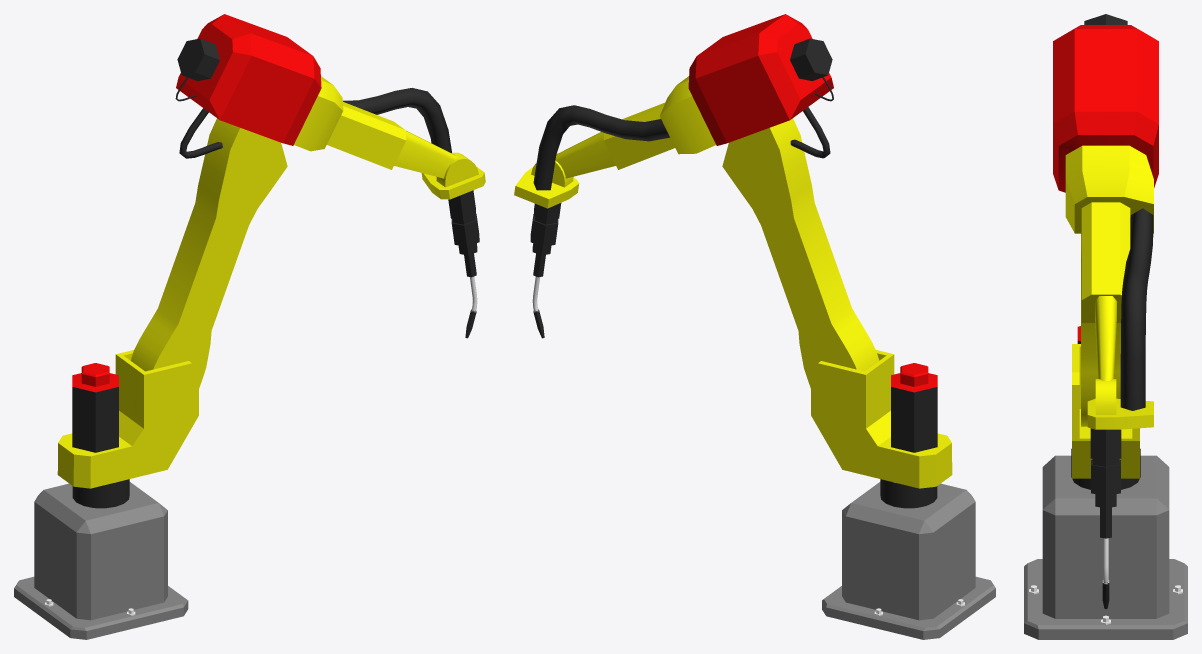
File: factory_robot_arm.glb
3 views of the same model, side by side, from view 1: azimuth 30°, elevation 25°; view 2: azimuth 150°, elevation 25°; view 3: azimuth 270°, elevation 25° (orthographic). The views are drawn at different scales.
Visible parts, largest first — view 1: Cube; view 2: Cube; view 3: Cube.
Part boxes in pixels (<box>): Cube: <box>14,14,485,639</box>; Cube: <box>514,14,995,639</box>; Cube: <box>1024,14,1187,639</box>.
Bounding box in the file's own units: 3.23 × 3.84 × 0.8685.
1 material, 1 textured.
